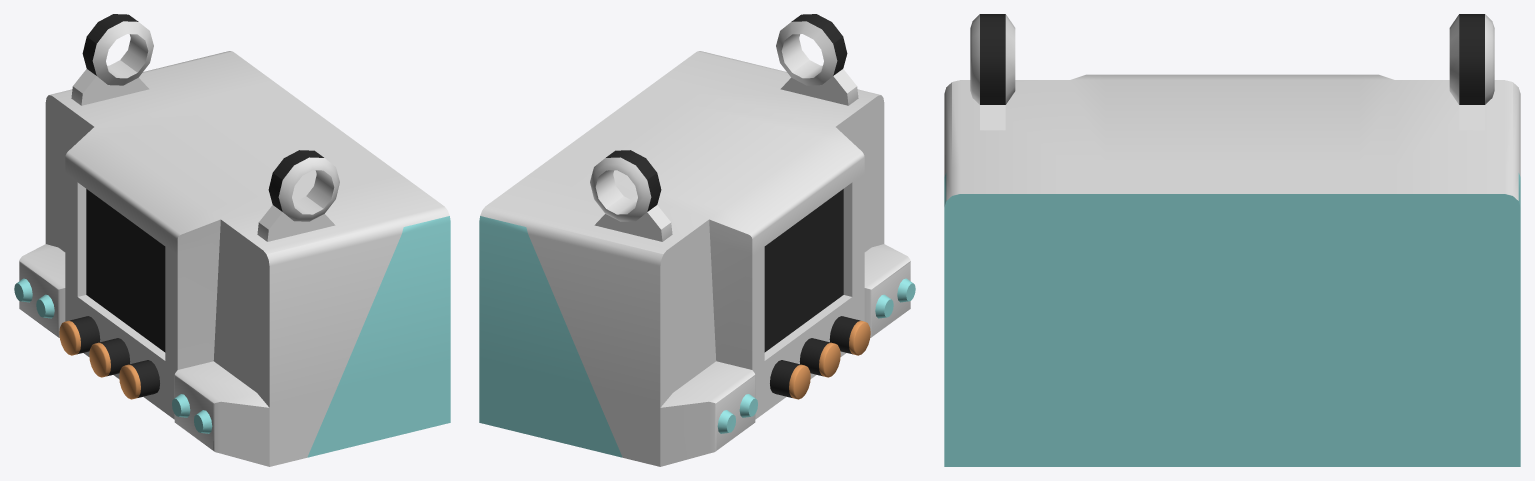
Rendered from ventSystem.fbx.
3 views of the same model, side by side, from view 1: azimuth 30°, elevation 25°; view 2: azimuth 150°, elevation 25°; view 3: azimuth 270°, elevation 25° (orthographic). The views are drawn at different scales.
Parts seen in each view (by area): view 1: VentSystem, vsKnob.001, vsKnob, vsKnob.002; view 2: VentSystem, vsKnob.002, vsKnob, vsKnob.001; view 3: VentSystem.
Part boxes in pixels (<box>): VentSystem: <box>14,14,450,466</box>; vsKnob.001: <box>119,360,159,399</box>; vsKnob: <box>89,338,130,377</box>; vsKnob.002: <box>59,316,100,355</box>; VentSystem: <box>479,14,915,466</box>; vsKnob.002: <box>770,360,810,399</box>; vsKnob: <box>799,338,840,377</box>; vsKnob.001: <box>829,316,870,355</box>; VentSystem: <box>944,14,1520,466</box>.
Bounding box in the file's own units: 18.6 × 21.08 × 29.87.
